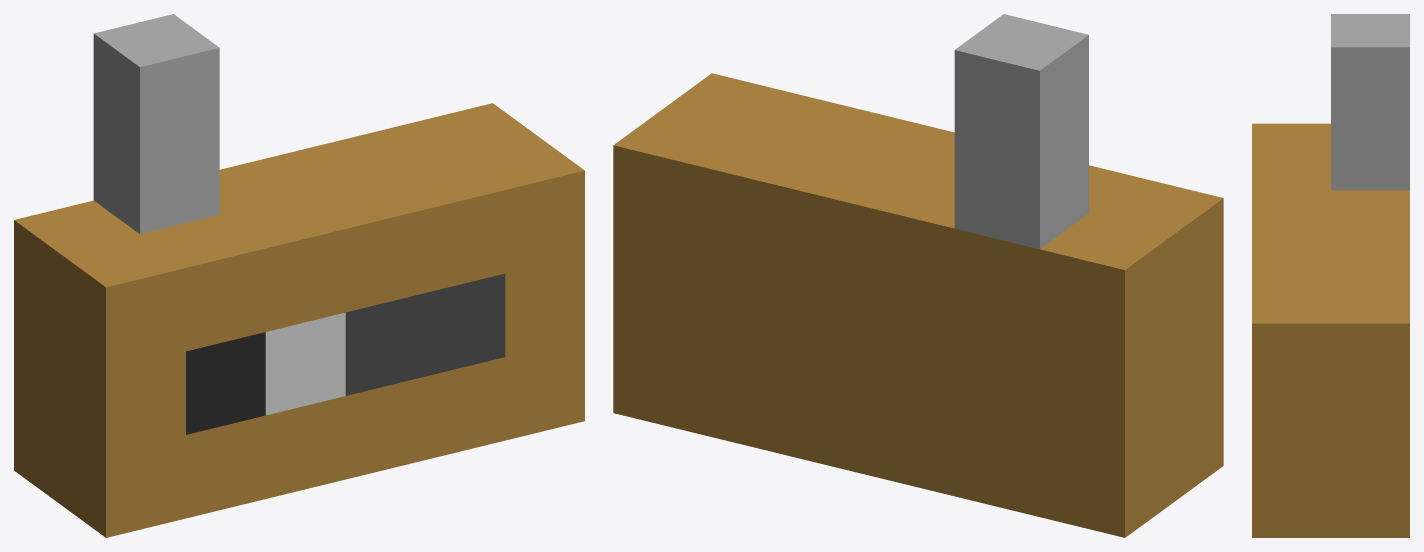
The model's file is Radio.obj.
3 views of the same model, side by side, from view 1: azimuth 30°, elevation 25°; view 2: azimuth 150°, elevation 25°; view 3: azimuth 270°, elevation 25° (orthographic). The views are drawn at different scales.
Visible parts, largest first — view 1: Radio; view 2: Radio; view 3: Radio.
Boxes of the visible parts, x1,y1,x2,y2 form: Radio: (14, 14, 584, 537); Radio: (613, 14, 1223, 537); Radio: (1252, 14, 1409, 537).
Size of the model in its own units: 6 by 5 by 2.
1 material, 1 textured.
